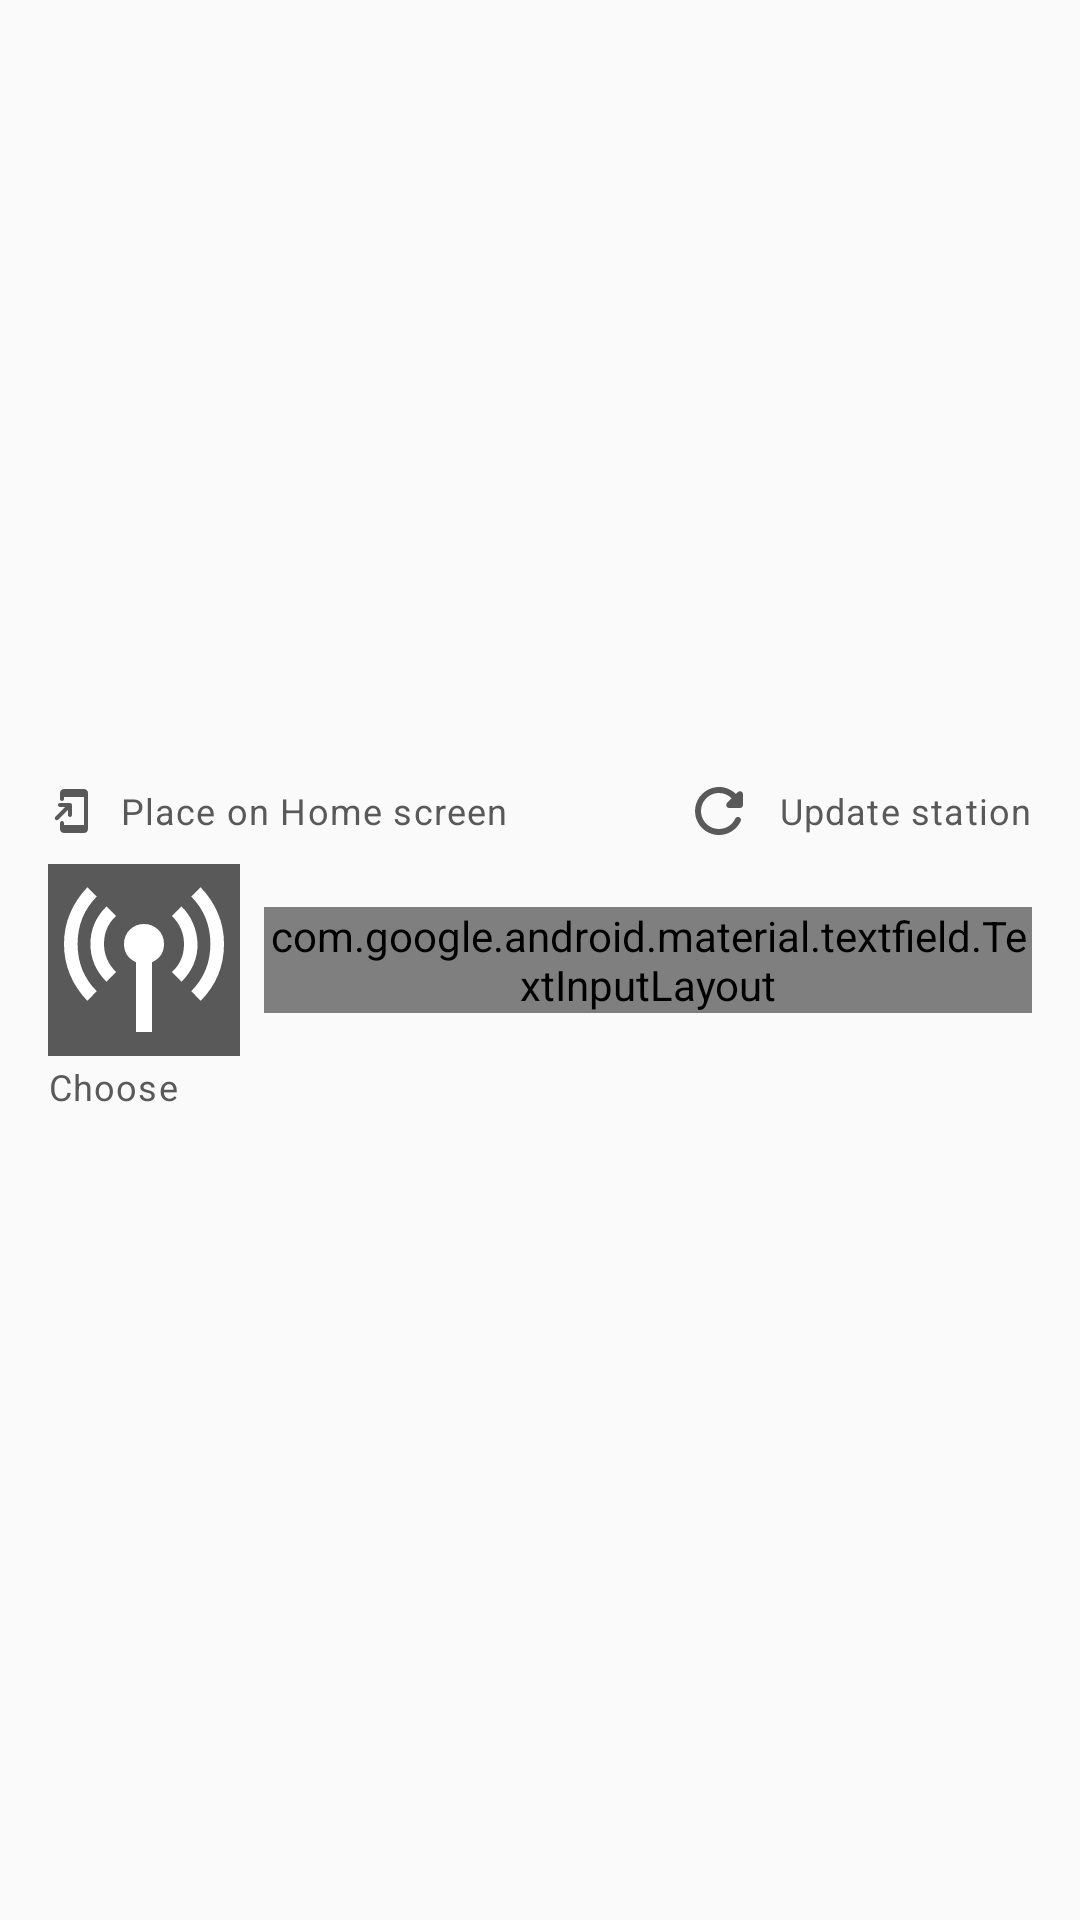

Icon click points for this 1080px×1920px phone screenshot, format point (x, y):
Station image: point (144, 960)
